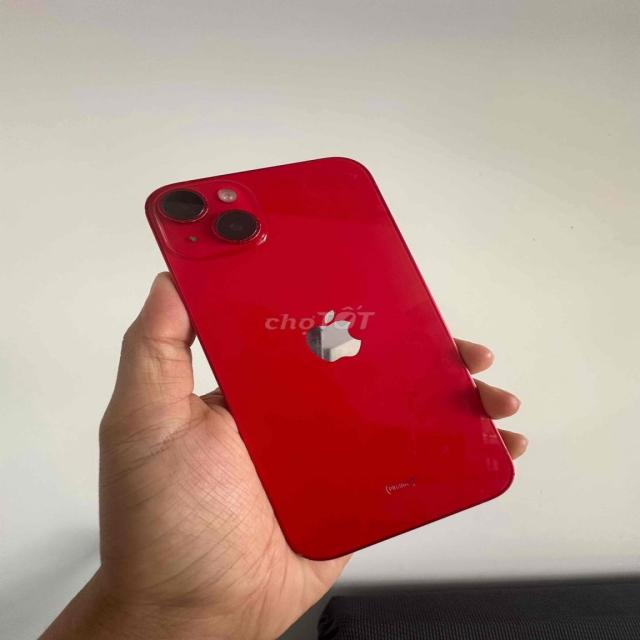gen_14: (141, 146, 518, 572)
